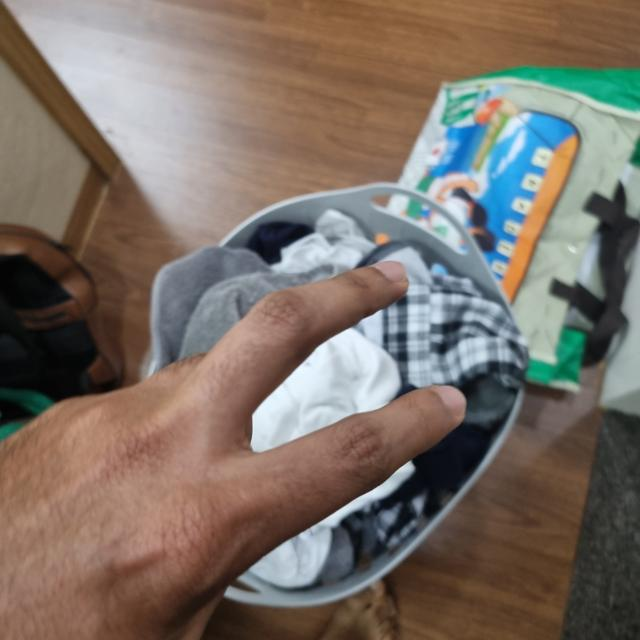Scissors: (0, 267, 458, 639)
